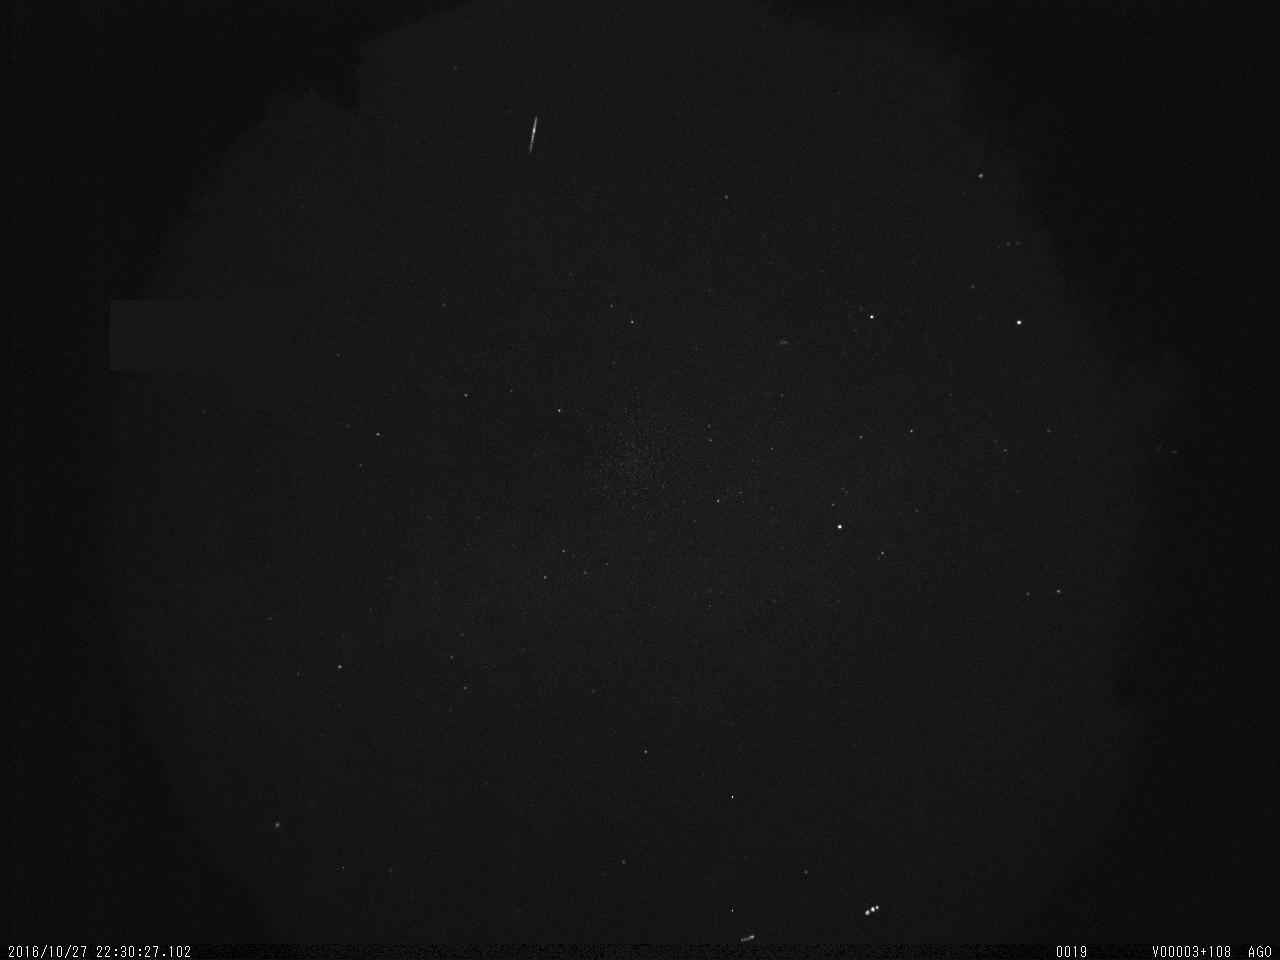meteor: (523, 108, 543, 166)
satelite: (858, 899, 884, 920), (734, 932, 762, 947)
